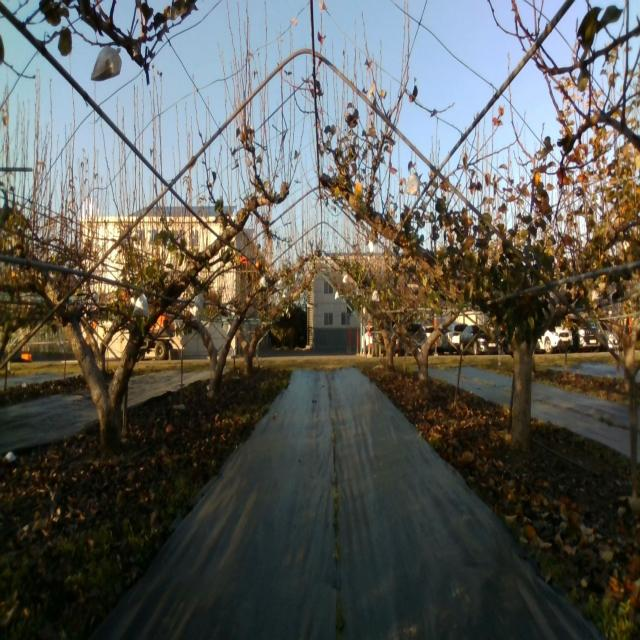pearbags: (90, 47, 122, 83), (133, 292, 150, 318), (403, 174, 421, 198)
